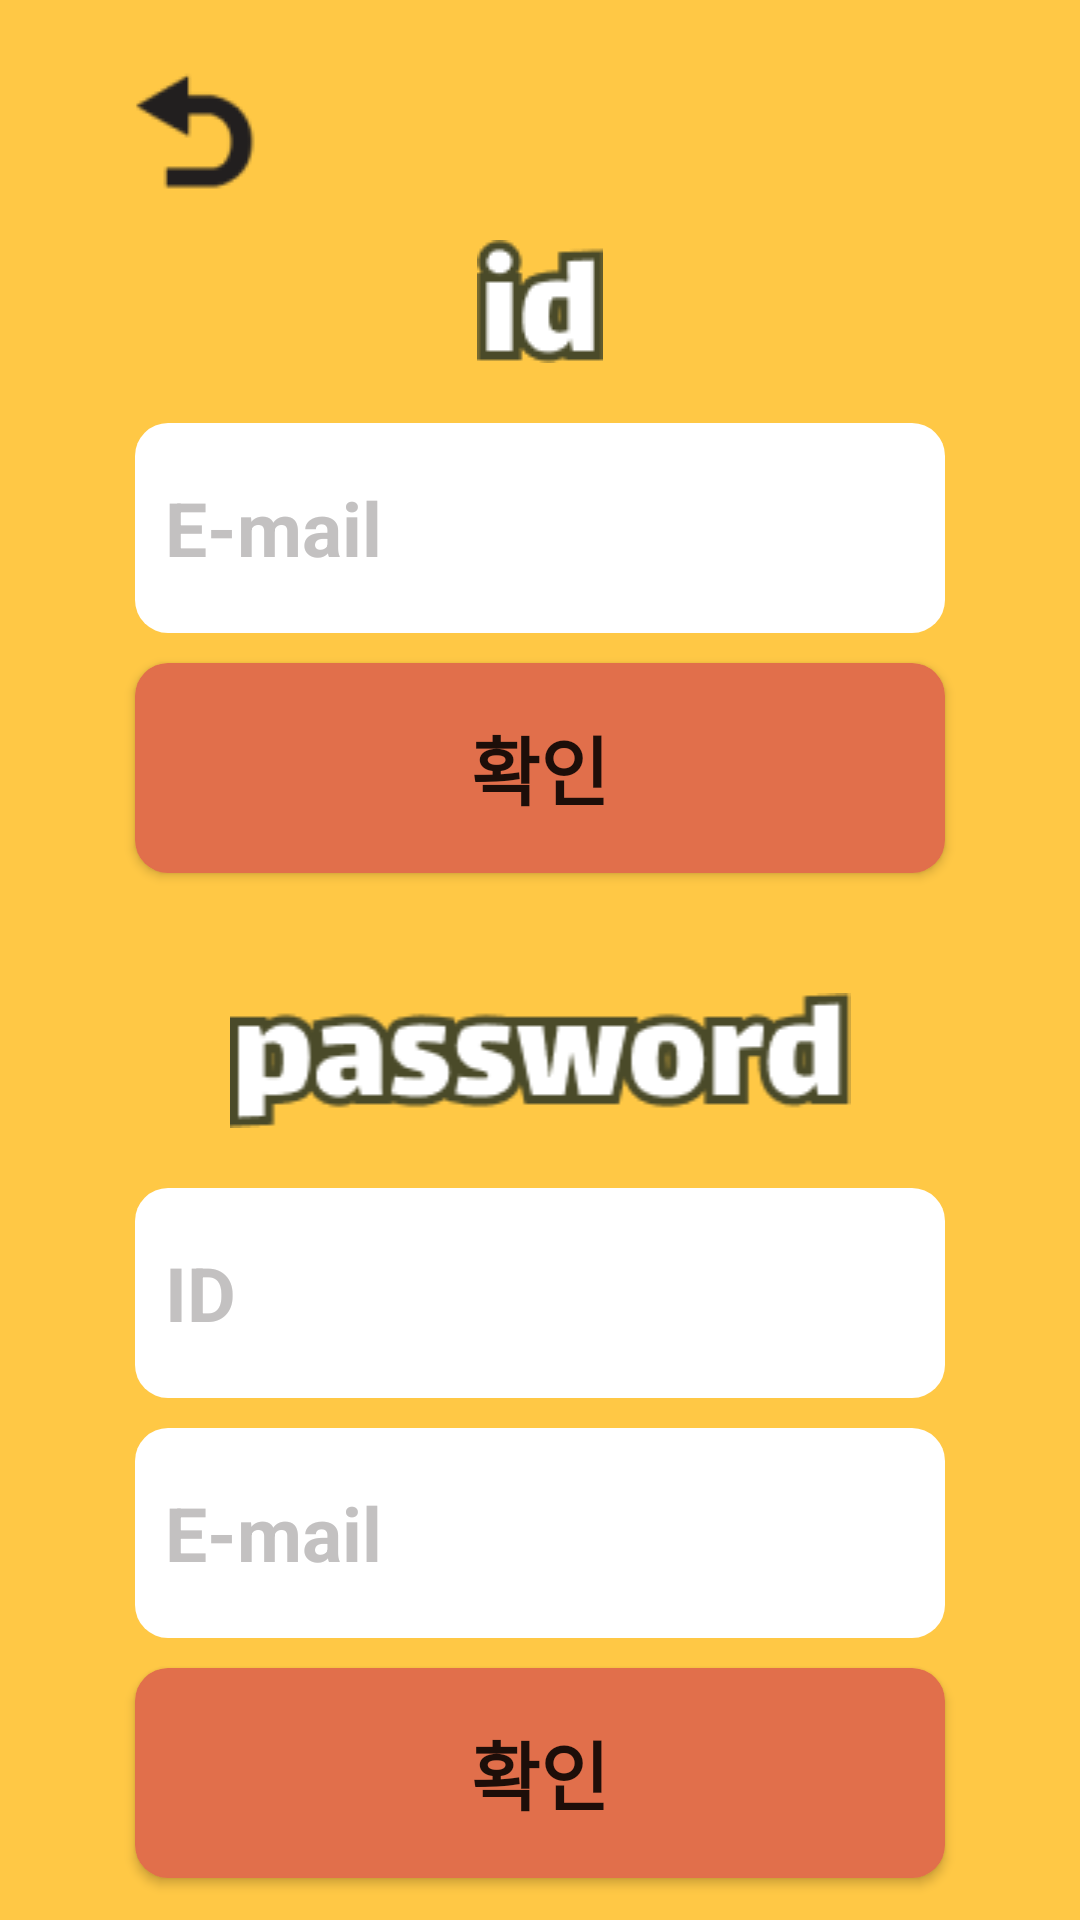

Screen size 1080x1920. Icon name, then its center in pixels as (x=x, y=y):
back: (x=195, y=132)
